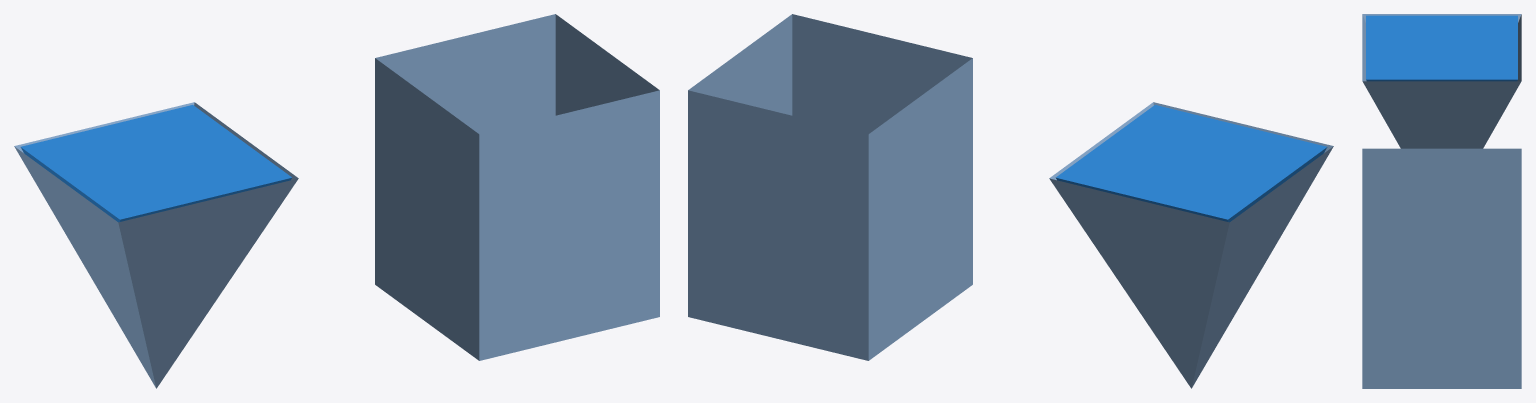
Rendered from volume-limas-tuang-air.glb.
3 renders of one model, left to right at view 1: azimuth 30°, elevation 25°; view 2: azimuth 150°, elevation 25°; view 3: azimuth 270°, elevation 25°, orthographic. The views are drawn at different scales.
Visible parts, largest first — view 1: sisi2, sisi3, permukaan, limas2, sisi0, limas3, sisi1, limas0; view 2: sisi0, sisi3, permukaan, limas0, sisi2, limas3, sisi1, limas2; view 3: sisi1, sisi3, permukaan, limas1, a1, limas3, limas0, limas2.
Boxes of the visible parts, x1,y1,x2,y2 form: sisi2: [479, 90, 659, 360]; sisi3: [375, 58, 479, 360]; permukaan: [21, 105, 291, 219]; limas2: [118, 178, 298, 388]; sisi0: [375, 14, 555, 134]; limas3: [14, 146, 155, 387]; sisi1: [555, 14, 659, 115]; limas0: [14, 102, 194, 152]; sisi0: [688, 90, 868, 360]; sisi3: [868, 58, 972, 360]; permukaan: [1056, 105, 1326, 219]; limas0: [1049, 178, 1229, 388]; sisi2: [792, 14, 972, 134]; limas3: [1192, 146, 1333, 387]; sisi1: [688, 14, 792, 115]; limas2: [1153, 102, 1333, 152]; sisi1: [1362, 216, 1521, 388]; sisi3: [1362, 148, 1521, 215]; permukaan: [1366, 15, 1517, 79]; limas1: [1362, 81, 1521, 148]; a1: [1366, 79, 1517, 81]; limas3: [1362, 14, 1521, 22]; limas0: [1517, 14, 1521, 81]; limas2: [1362, 14, 1366, 81].
Size of the model in its own units: 6 by 2.4 by 2.
